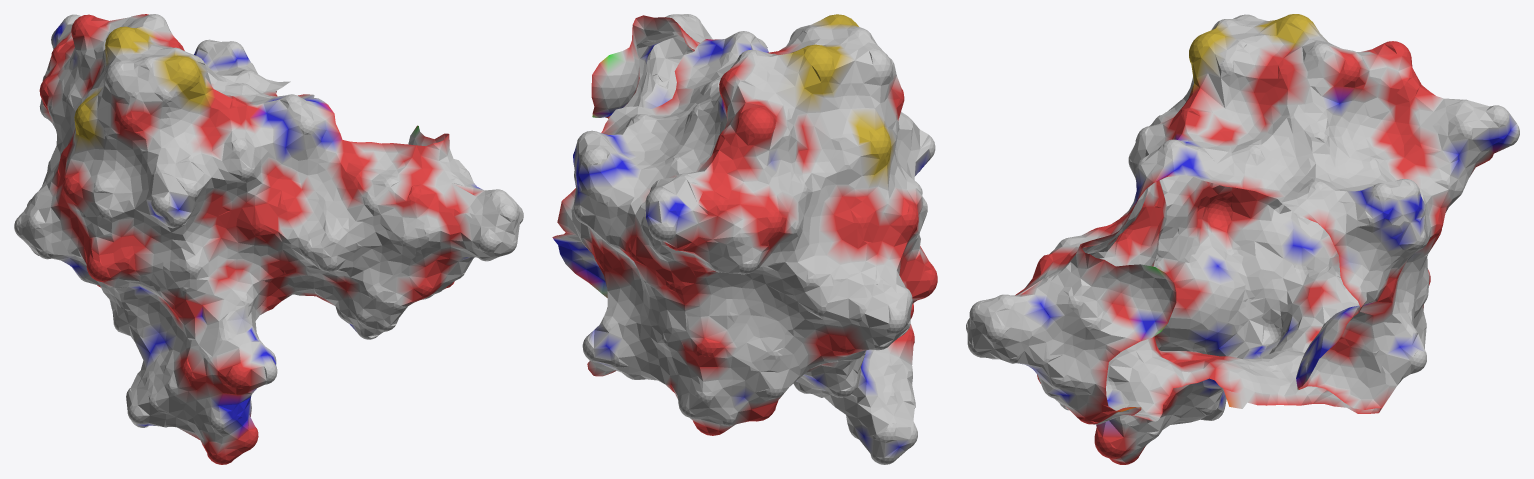
File: MDB_2ky8_prot_surf.dae
3 renders of one model, left to right at view 1: azimuth 30°, elevation 25°; view 2: azimuth 150°, elevation 25°; view 3: azimuth 270°, elevation 25°, orthographic. The views are drawn at different scales.
Visible parts, largest first — view 1: node; view 2: node; view 3: node.
Part boxes in pixels (box(x1,y1,x2,y2)): node: box(14, 14, 523, 464); node: box(552, 14, 937, 464); node: box(966, 14, 1519, 464).
Size of the model in its own units: 37.21 by 38.27 by 44.13.
